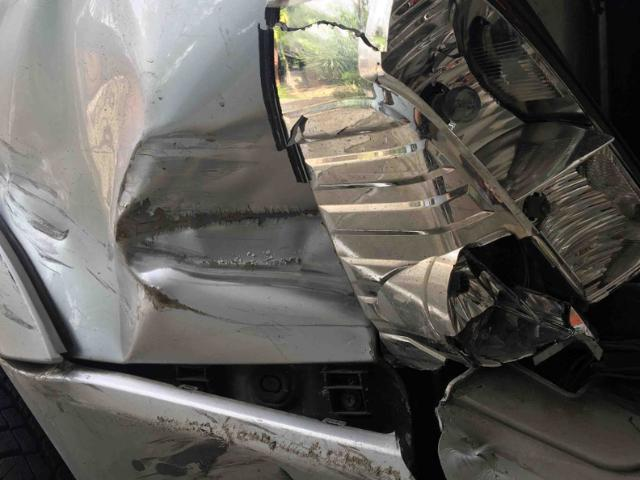Bumper: (6, 370, 620, 480)
Fender: (0, 2, 356, 366)
Light: (305, 0, 638, 361)
